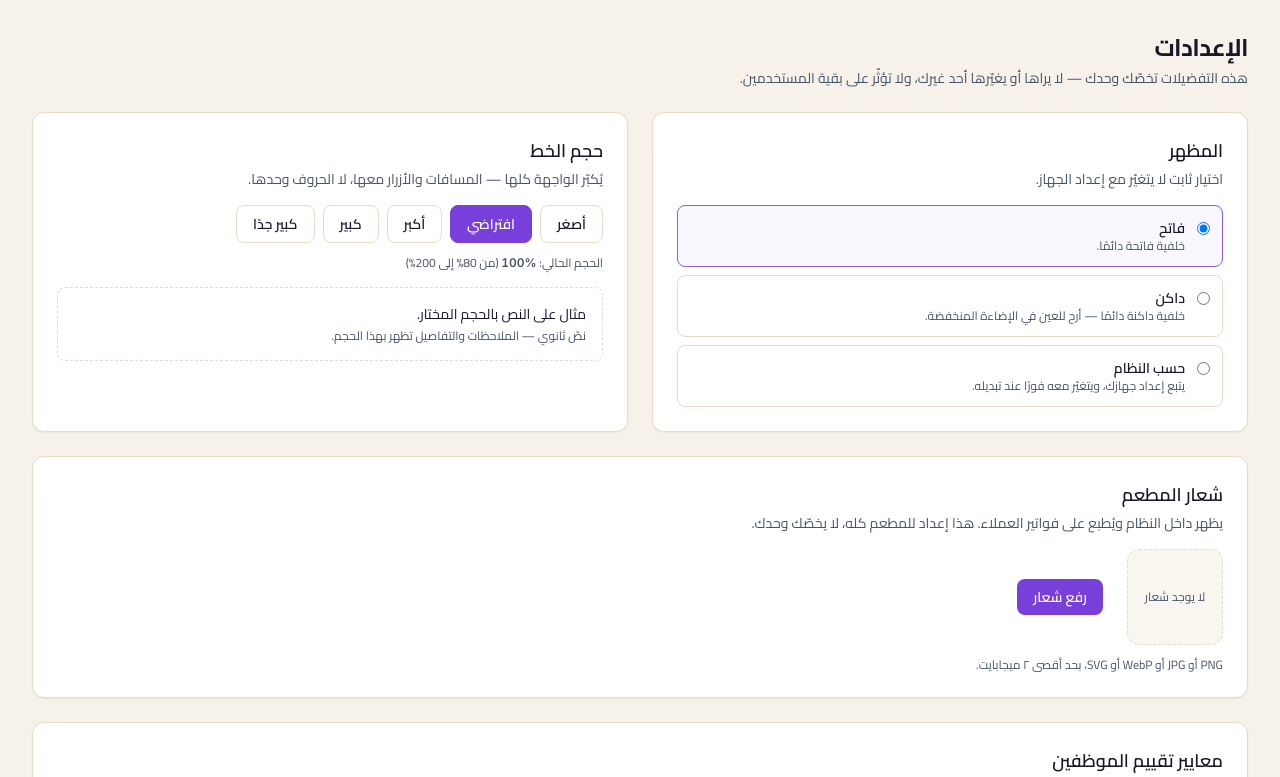
picking a text size › تراجع puts the picker back and withdraws the offer
Step 1. Click the button "كبير" → click(350, 224), box left=322, top=205, right=378, bottom=243
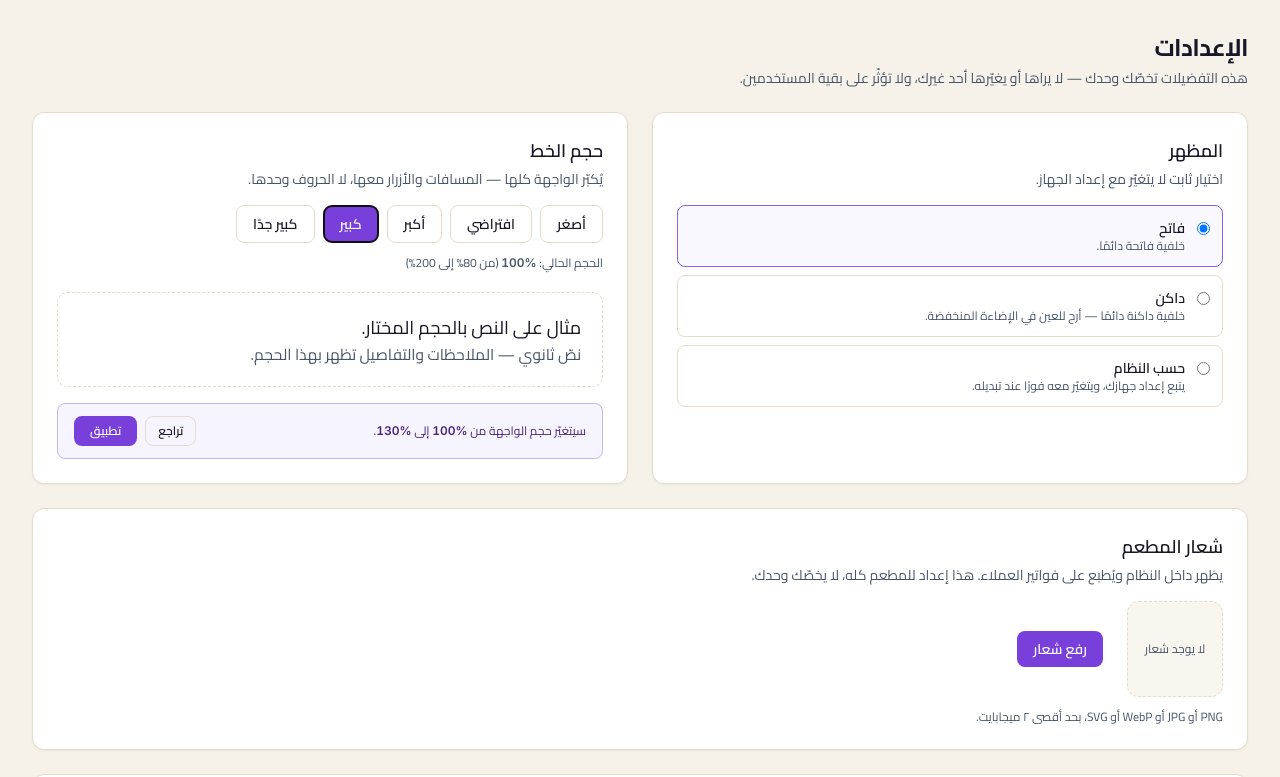
Step 2. Click the button "تراجع" → click(171, 431), box left=145, top=416, right=196, bottom=446
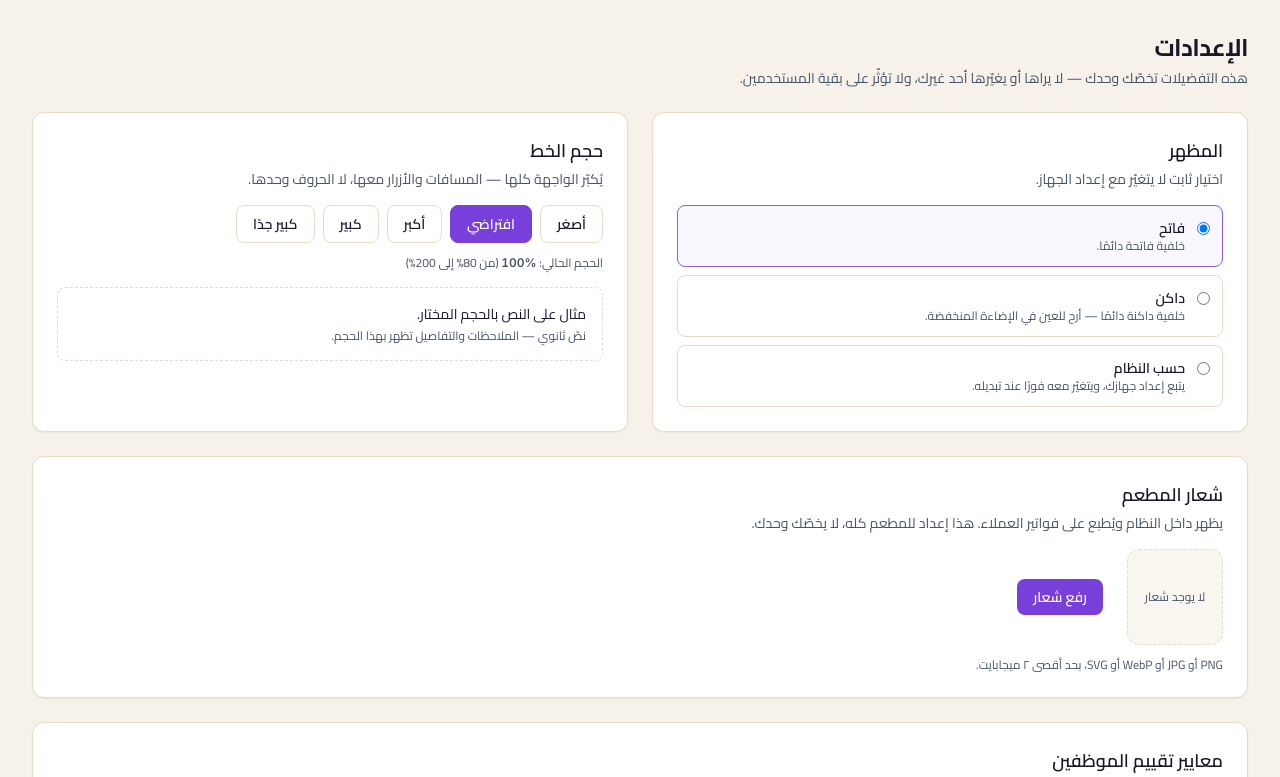
Expected: the element with test id "text-scale-apply" is gone
